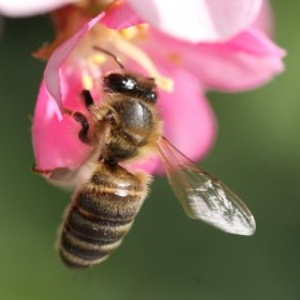bee: (52, 41, 255, 270)
